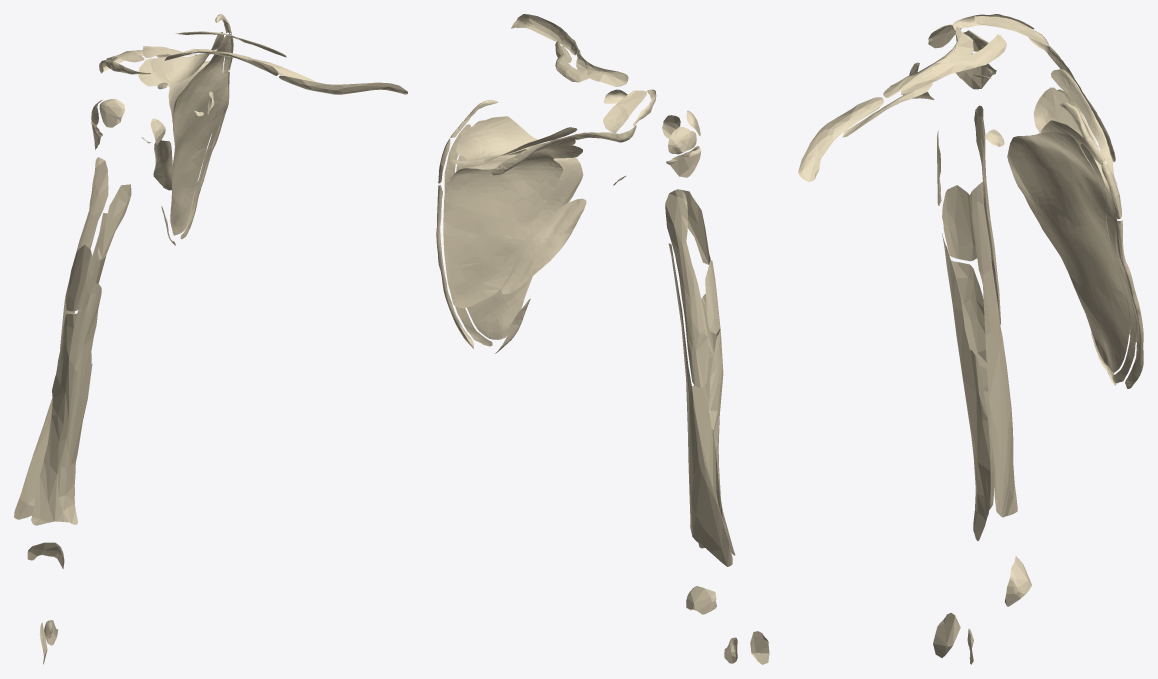
Rendered from z-upper-limb-attachment.glb.
3 views of the same model, side by side, from view 1: azimuth 30°, elevation 25°; view 2: azimuth 150°, elevation 25°; view 3: azimuth 270°, elevation 25° (orthographic). The views are drawn at different scales.
Parts seen in each view (by area): view 1: z-brachialis-muscle-or, z-subscapularis-muscle-or, z-medial-head-of-triceps-brachii-or, z-lateral-head-of-triceps-brachii-or, z-deltoid-muscle-er, z-supraspinatus-muscle-or, z-pectoralis-major-muscle-or, z-pectoralis-major-muscle-er, z-serratus-anterior-muscle-or, z-infraspinatus-muscle-or, z-teres-minor-muscle-or, z-clavicular-part-of-deltoid-muscle-or (+1 smaller); view 2: z-infraspinatus-muscle-or, z-subscapularis-muscle-or, z-medial-head-of-triceps-brachii-or, z-lateral-head-of-triceps-brachii-or, z-brachialis-muscle-or, z-teres-minor-muscle-or, z-supraspinatus-muscle-or, z-scapular-spinal-part-of-deltoid-muscle-or, z-pectoralis-major-muscle-or, z-pectoralis-major-muscle-er, z-serratus-anterior-muscle-or, z-transverse-part-of-trapezius-muscle-or (+9 smaller); view 3: z-subscapularis-muscle-or, z-brachialis-muscle-or, z-medial-head-of-triceps-brachii-or, z-deltoid-muscle-er, z-pectoralis-major-muscle-or, z-supraspinatus-muscle-or, z-ascending-part-of-trapezius-muscle-or, z-serratus-anterior-muscle-or, z-descending-part-of-trapezius-muscle-or, z-rhomboid-major-muscle-er, z-lateral-head-of-triceps-brachii-or, z-clavicular-part-of-deltoid-muscle-or (+8 smaller).
Part boxes in pixels (left/top/right/bottom): z-brachialis-muscle-or: left=31, top=283, right=101, bottom=525; z-subscapularis-muscle-or: left=170, top=35, right=227, bottom=235; z-medial-head-of-triceps-brachii-or: left=14, top=213, right=107, bottom=519; z-lateral-head-of-triceps-brachii-or: left=60, top=157, right=108, bottom=348; z-deltoid-muscle-er: left=65, top=244, right=93, bottom=311; z-supraspinatus-muscle-or: left=150, top=32, right=223, bottom=83; z-pectoralis-major-muscle-or: left=279, top=75, right=407, bottom=94; z-pectoralis-major-muscle-er: left=96, top=184, right=131, bottom=260; z-serratus-anterior-muscle-or: left=180, top=32, right=231, bottom=239; z-infraspinatus-muscle-or: left=138, top=58, right=223, bottom=138; z-teres-minor-muscle-or: left=153, top=140, right=172, bottom=190; z-clavicular-part-of-deltoid-muscle-or: left=164, top=48, right=278, bottom=75; z-infraspinatus-muscle-or: left=443, top=144, right=582, bottom=308; z-subscapularis-muscle-or: left=456, top=120, right=583, bottom=339; z-medial-head-of-triceps-brachii-or: left=668, top=243, right=732, bottom=566; z-lateral-head-of-triceps-brachii-or: left=665, top=189, right=708, bottom=388; z-brachialis-muscle-or: left=692, top=293, right=735, bottom=555; z-teres-minor-muscle-or: left=501, top=198, right=586, bottom=294; z-supraspinatus-muscle-or: left=456, top=116, right=575, bottom=158; z-scapular-spinal-part-of-deltoid-muscle-or: left=491, top=125, right=636, bottom=175; z-pectoralis-major-muscle-or: left=511, top=14, right=577, bottom=55; z-pectoralis-major-muscle-er: left=682, top=190, right=710, bottom=264; z-serratus-anterior-muscle-or: left=444, top=124, right=492, bottom=346; z-transverse-part-of-trapezius-muscle-or: left=603, top=90, right=646, bottom=133; z-subscapularis-muscle-or: left=1007, top=131, right=1129, bottom=372; z-brachialis-muscle-or: left=942, top=233, right=994, bottom=541; z-medial-head-of-triceps-brachii-or: left=969, top=181, right=1017, bottom=517; z-deltoid-muscle-er: left=942, top=185, right=976, bottom=261; z-pectoralis-major-muscle-or: left=798, top=97, right=883, bottom=181; z-supraspinatus-muscle-or: left=1033, top=87, right=1104, bottom=165; z-ascending-part-of-trapezius-muscle-or: left=901, top=34, right=1006, bottom=94; z-serratus-anterior-muscle-or: left=1080, top=144, right=1136, bottom=383; z-descending-part-of-trapezius-muscle-or: left=1051, top=69, right=1117, bottom=184; z-rhomboid-major-muscle-er: left=1116, top=220, right=1143, bottom=388; z-lateral-head-of-triceps-brachii-or: left=974, top=105, right=1001, bottom=324; z-clavicular-part-of-deltoid-muscle-or: left=883, top=27, right=973, bottom=97.
Bounding box in the file's own units: 2.05 × 3.61 × 1.58.
